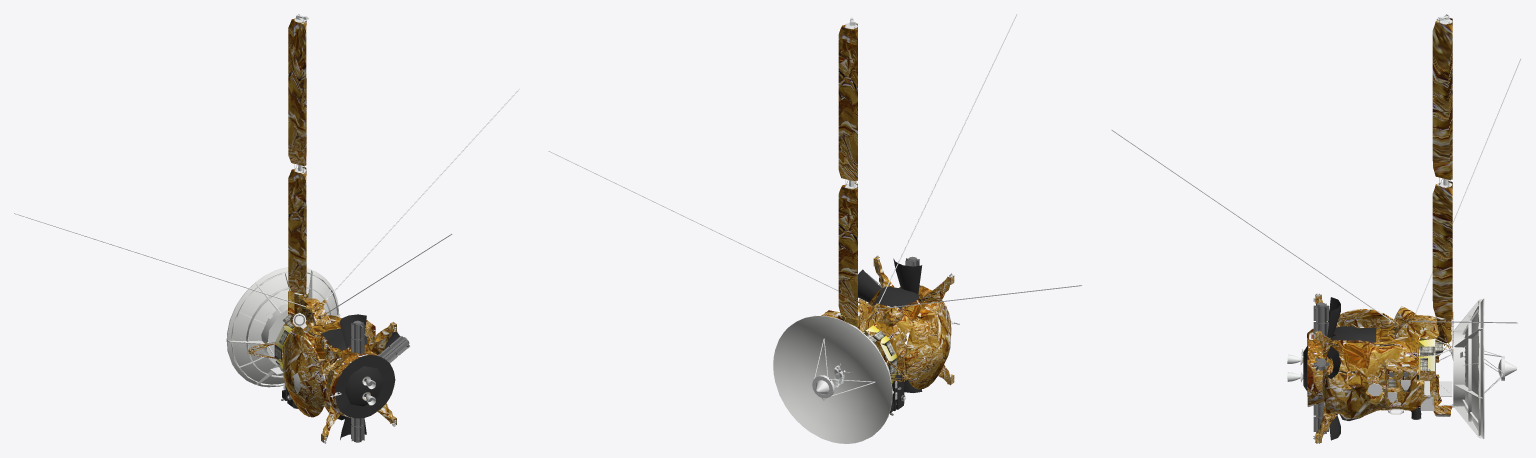
File: cassini_lod1.glb
The picture shows the model from 3 angles, left to right: view 1: azimuth 30°, elevation 25°; view 2: azimuth 150°, elevation 25°; view 3: azimuth 270°, elevation 25°; orthographic projection. The views are drawn at different scales.
Parts seen in each view (by area): view 1: cassini_lod1; view 2: cassini_lod1; view 3: cassini_lod1.
Part boxes in pixels (left/top/right/bottom): cassini_lod1: left=14, top=14, right=519, bottom=443; cassini_lod1: left=548, top=14, right=1082, bottom=443; cassini_lod1: left=1111, top=14, right=1521, bottom=443.
Bounding box in the file's own units: 17.94 × 13.08 × 11.64.
Materials: 8 (3 with a texture image).
